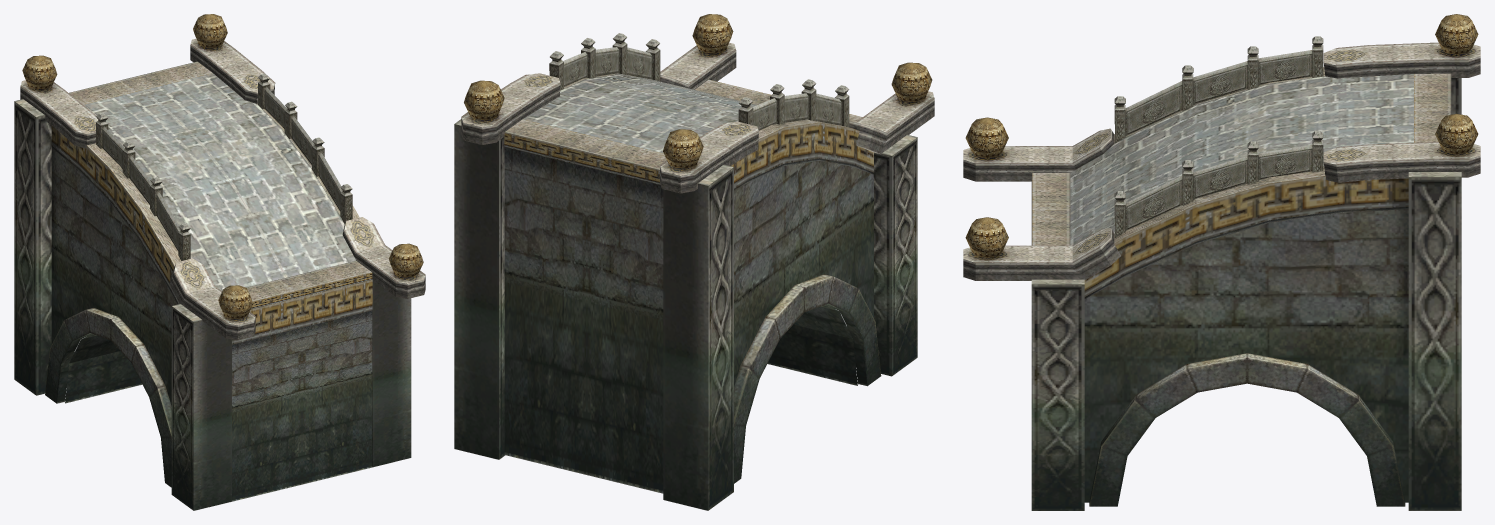
The model's file is otherworld_bridge_00.glb.
The picture shows the model from 3 angles, left to right: view 1: azimuth 30°, elevation 25°; view 2: azimuth 150°, elevation 25°; view 3: azimuth 270°, elevation 25°; orthographic projection. The views are drawn at different scales.
Visible parts, largest first — view 1: otherworld_bridge_00; view 2: otherworld_bridge_00; view 3: otherworld_bridge_00.
Boxes of the visible parts, bbox=[...] form: otherworld_bridge_00: bbox=[14, 14, 425, 510]; otherworld_bridge_00: bbox=[454, 14, 934, 510]; otherworld_bridge_00: bbox=[963, 14, 1480, 510].
Bounding box in the file's own units: 8.5 × 12 × 14.61.
Materials: 2 (2 with a texture image).
